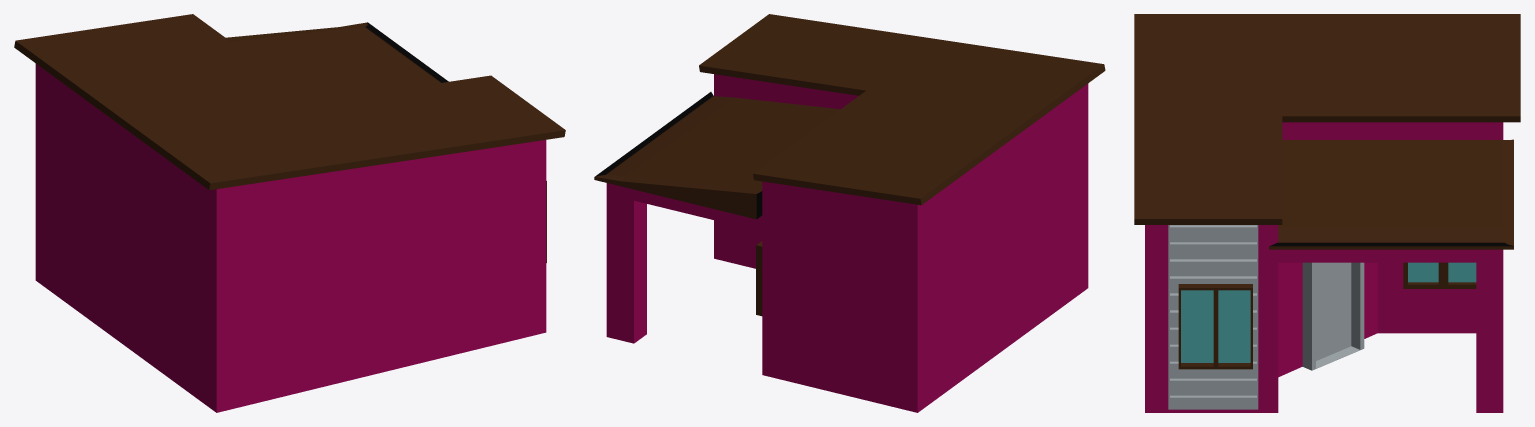
File: house2.fbx
The picture shows the model from 3 angles, left to right: view 1: azimuth 30°, elevation 25°; view 2: azimuth 150°, elevation 25°; view 3: azimuth 270°, elevation 25°; orthographic projection. The views are drawn at different scales.
Visible parts, largest first — view 1: house2; view 2: house2; view 3: house2.
Part boxes in pixels (x1,y1,x2,y2): house2: [14, 14, 565, 412]; house2: [594, 14, 1105, 412]; house2: [1134, 14, 1520, 412].
Bounding box in the file's own units: 1607 × 1008 × 1507.
